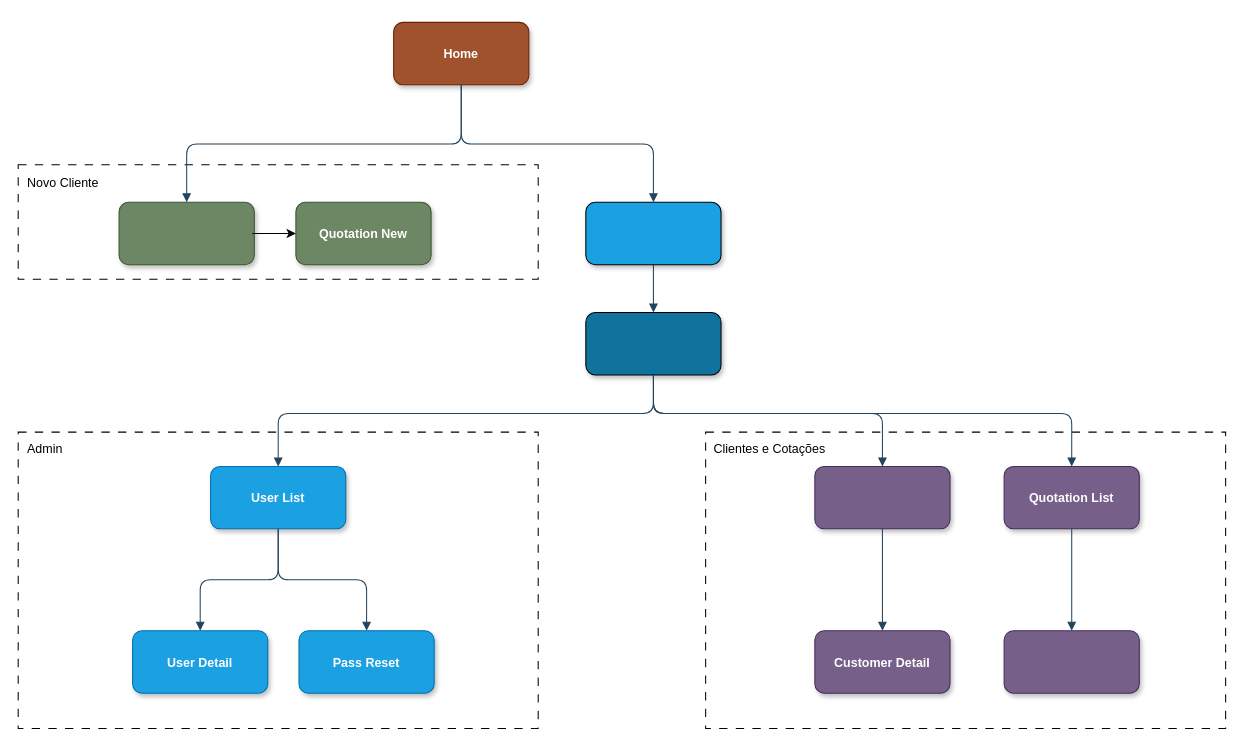
Some shapes in this 1244 by 747 pixel diagram are drawn without their labels. Here are the shapes that lost their labels. From the top down, the centre of each, then its label:
the point at 187,234: Customer New
the point at 654,234: Login
the point at 654,344: Dashboard
the point at 883,498: Customer List
the point at 1072,663: Quotation Detail
